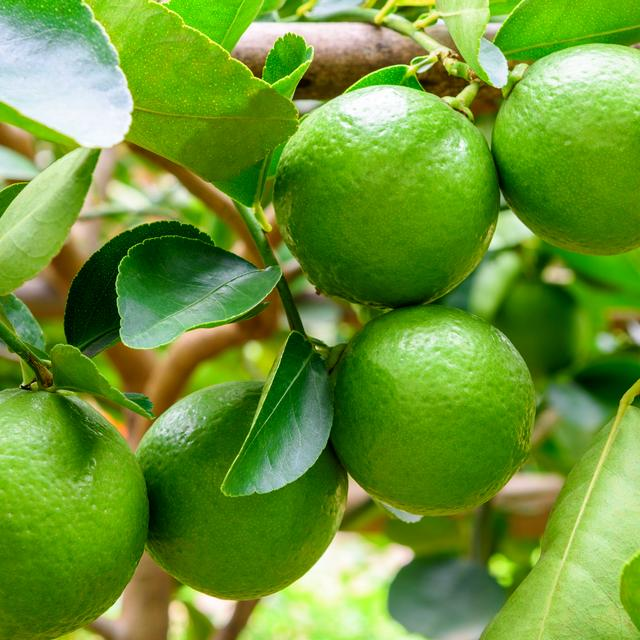lime: (135, 334, 347, 604), (276, 84, 501, 310), (322, 306, 545, 524), (0, 394, 149, 640), (494, 44, 640, 256)
